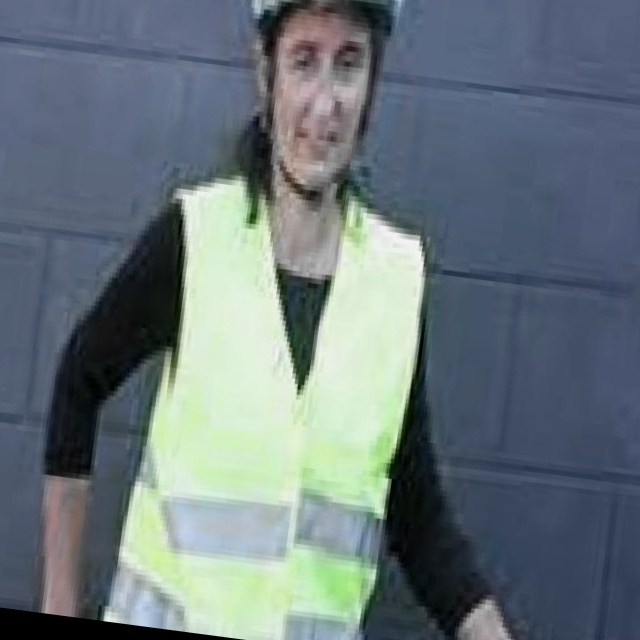Con_Chaleco: (113, 182, 423, 640)
